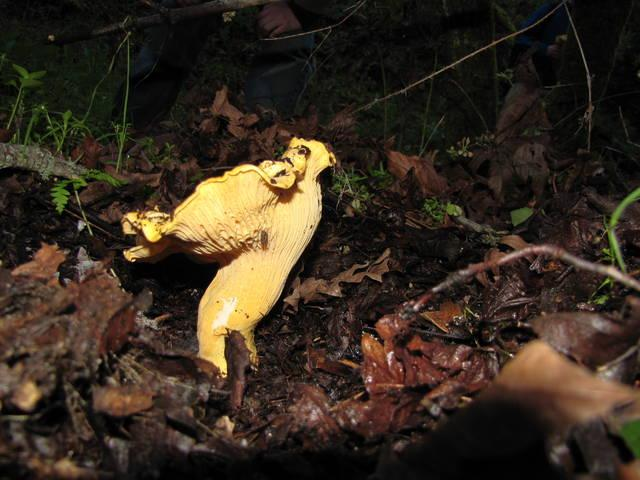Edible Mushroom: (119, 134, 337, 379)
